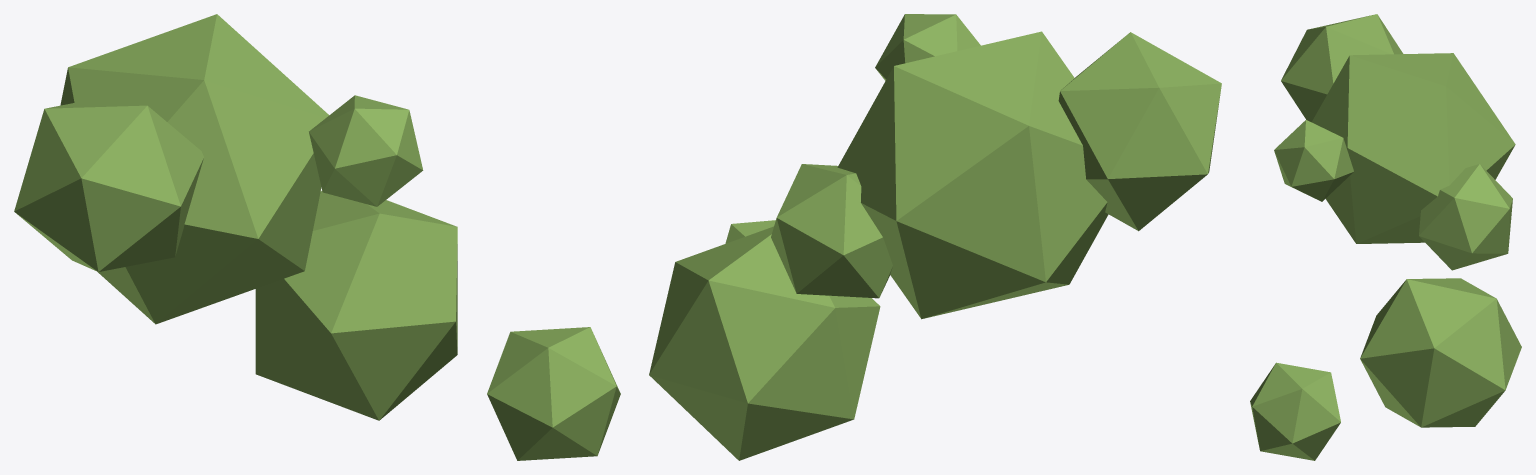
File: crown.fbx
3 renders of one model, left to right at view 1: azimuth 30°, elevation 25°; view 2: azimuth 150°, elevation 25°; view 3: azimuth 270°, elevation 25°, orthographic. The views are drawn at different scales.
Visible parts, largest first — view 1: crown; view 2: crown; view 3: crown.
Boxes of the visible parts, left/top/right/bottom form: crown: left=14, top=14, right=620, bottom=460; crown: left=649, top=14, right=1221, bottom=460; crown: left=1250, top=14, right=1521, bottom=460.
Size of the model in its own units: 441 by 328 by 269.
